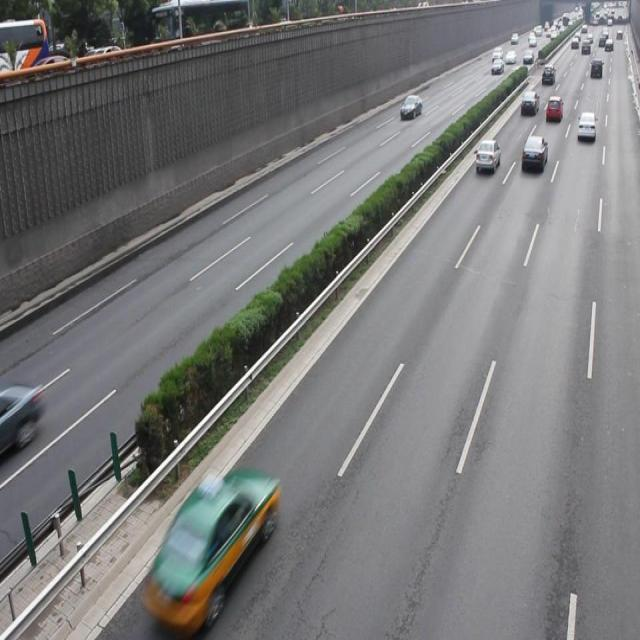car: (149, 466, 277, 620), (475, 139, 500, 174)
